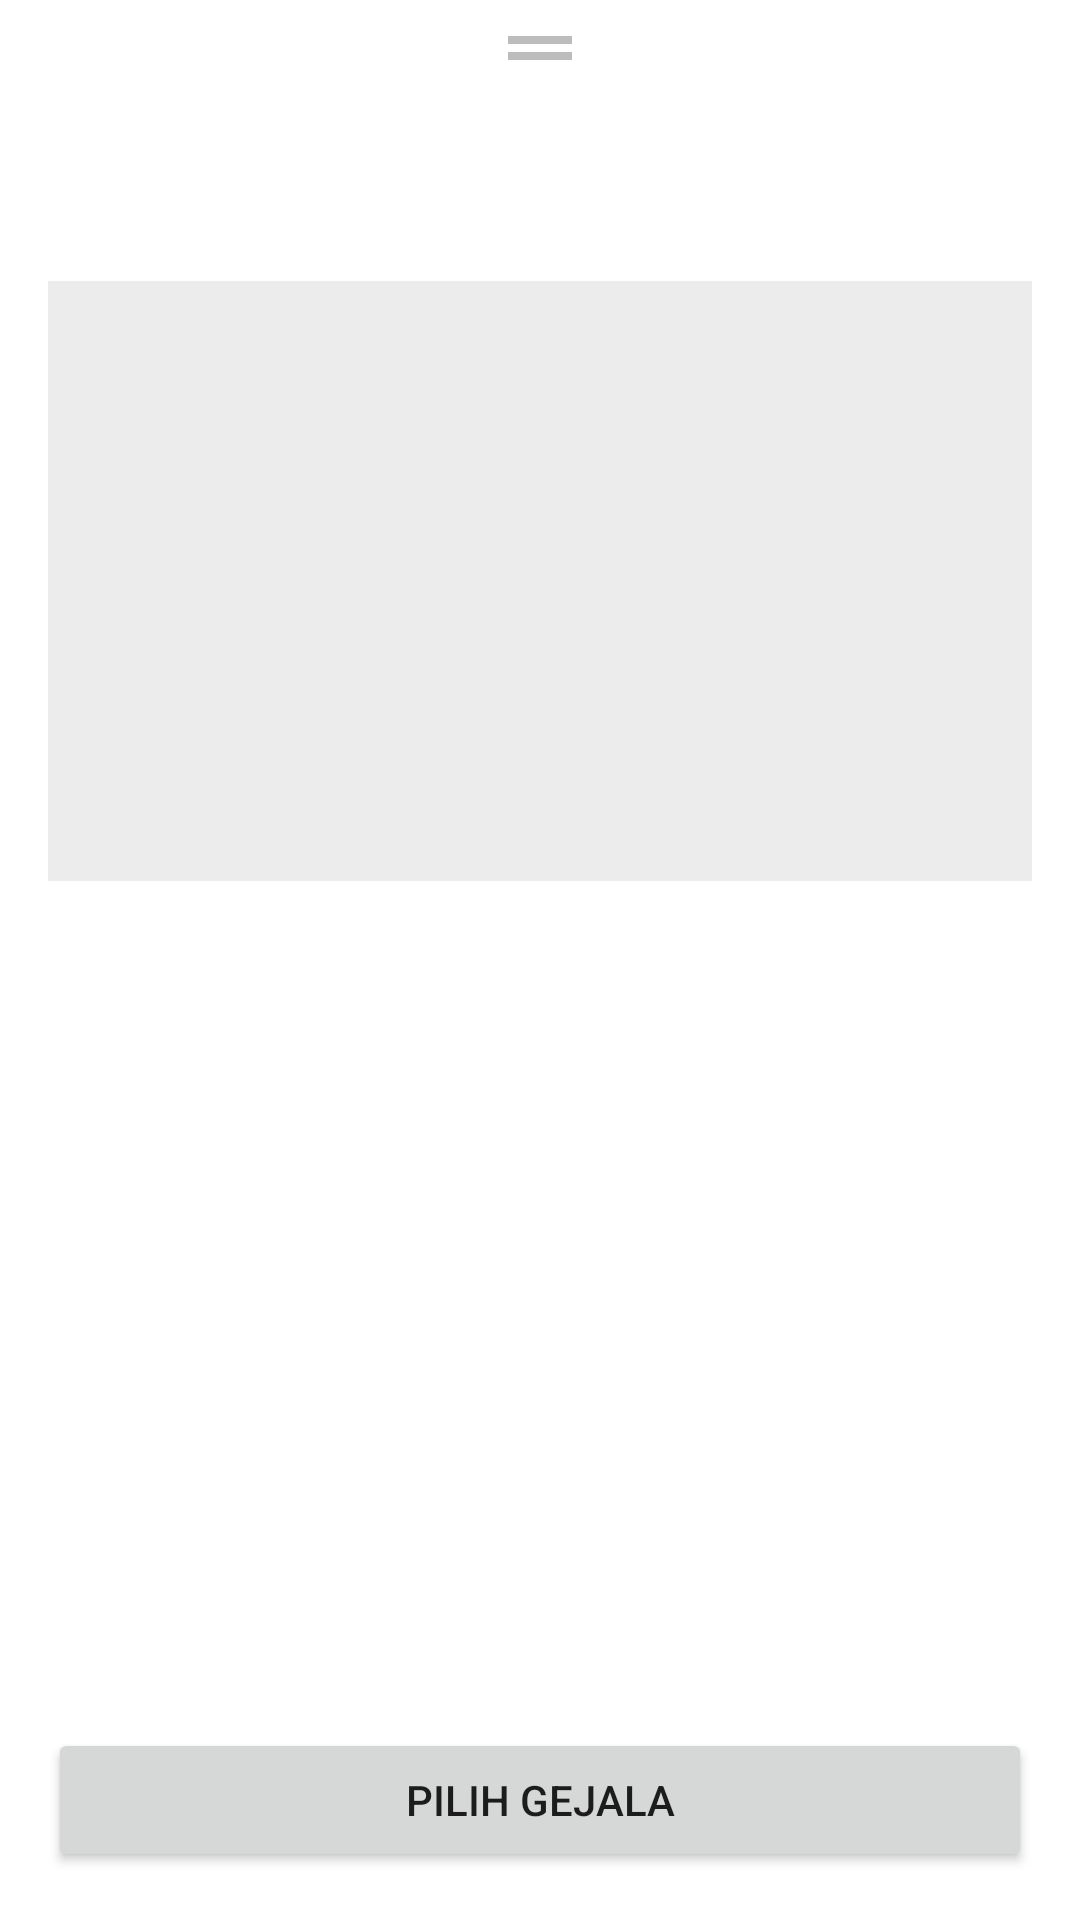

Named icons in this screenshot (1080x1920) and their bounding boxes, (x1, y1, x2, y2):
drag handle: (508, 36, 572, 60)
